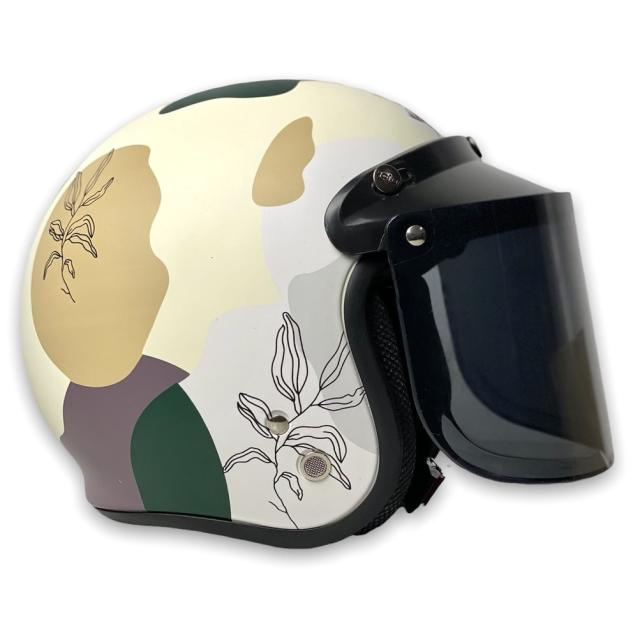Helm: (20, 77, 612, 551)
